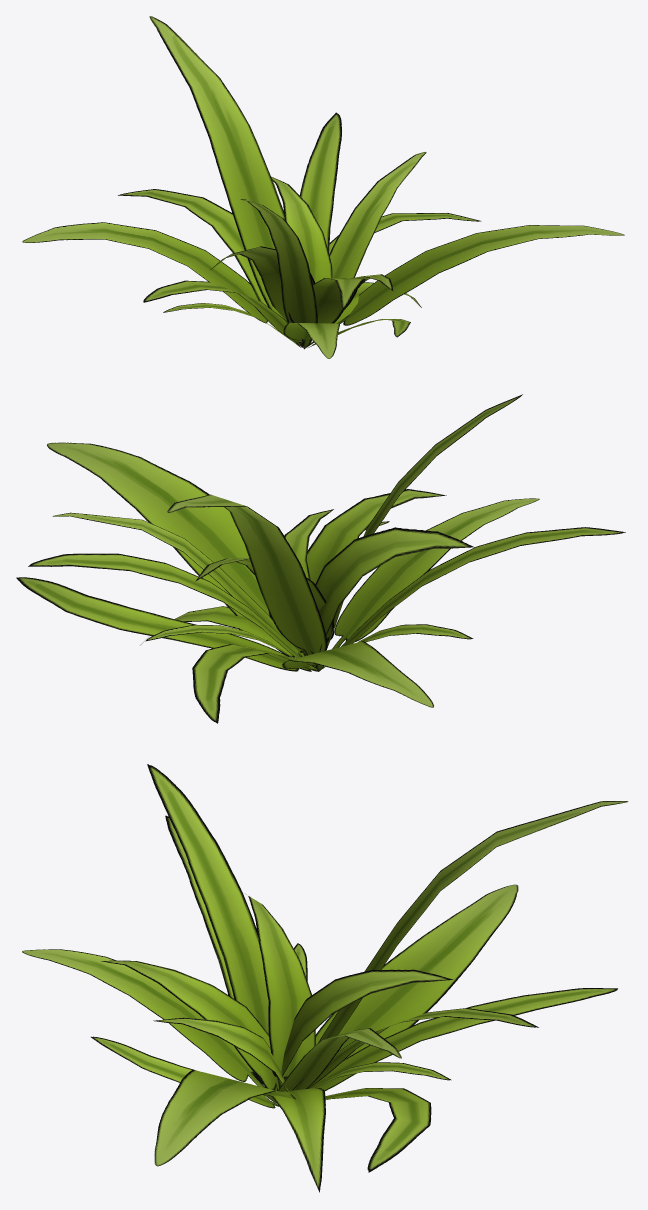
File: Moonset_FBX_foliage_mid_05.fbx
3 views of the same model, one above another, from view 1: azimuth 30°, elevation 25°; view 2: azimuth 150°, elevation 25°; view 3: azimuth 270°, elevation 25° (orthographic). The views are drawn at different scales.
Visible parts, largest first — view 1: Foliage_mid_05; view 2: Foliage_mid_05; view 3: Foliage_mid_05.
Boxes of the visible parts, x1,y1,x2,y2 form: Foliage_mid_05: (22,16,624,358); Foliage_mid_05: (16,394,625,723); Foliage_mid_05: (22,764,628,1192).
Size of the model in its own units: 2.4 by 1.13 by 2.09.
